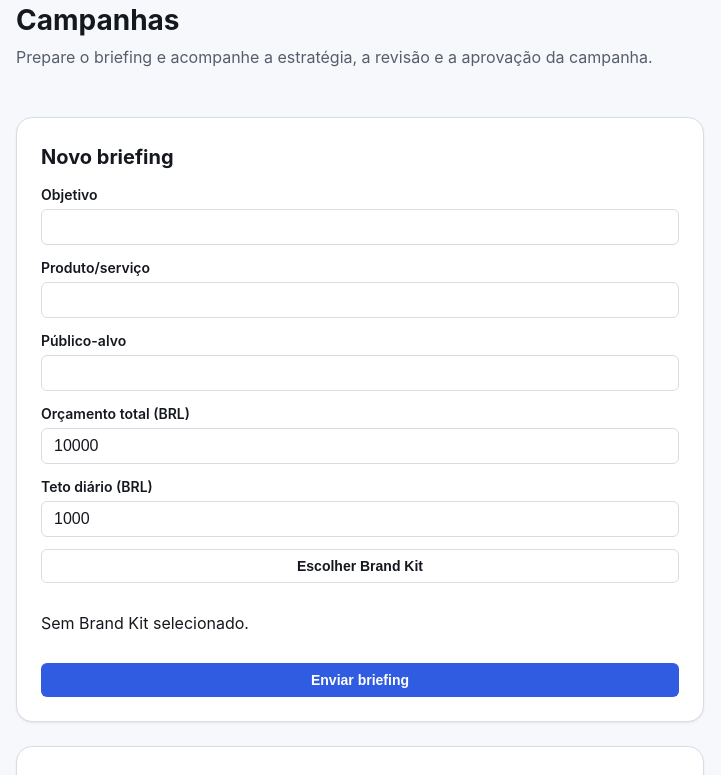
CampaignsPage › uncertain submission keeps body and nonce until confirmed
Step 1. Type "Estável" into the field labelled "Objetivo" → (360, 227), box left=41, top=209, right=679, bottom=245
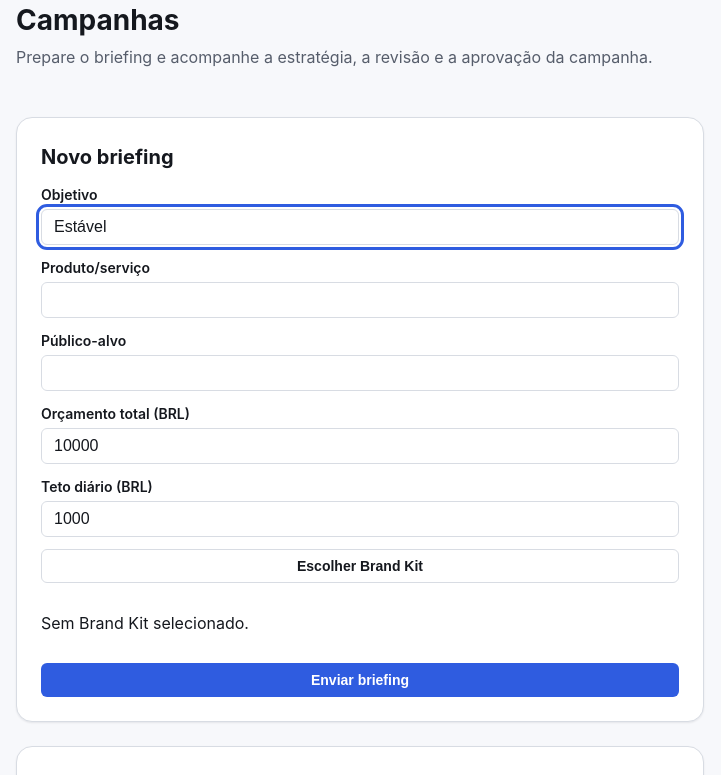
Step 2. Click the button "Enviar briefing" → click(360, 680), box left=41, top=663, right=679, bottom=697
(page scrolled)
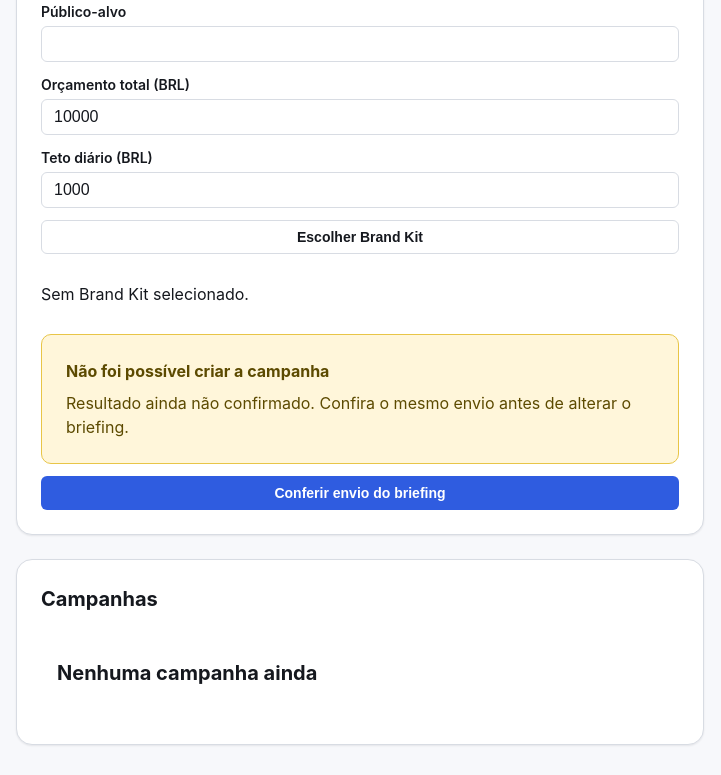
Expected: the button "Conferir envio do briefing" is shown
Step 3. Click the button "Conferir envio do briefing" → click(360, 493), box left=41, top=476, right=679, bottom=510
(page scrolled)
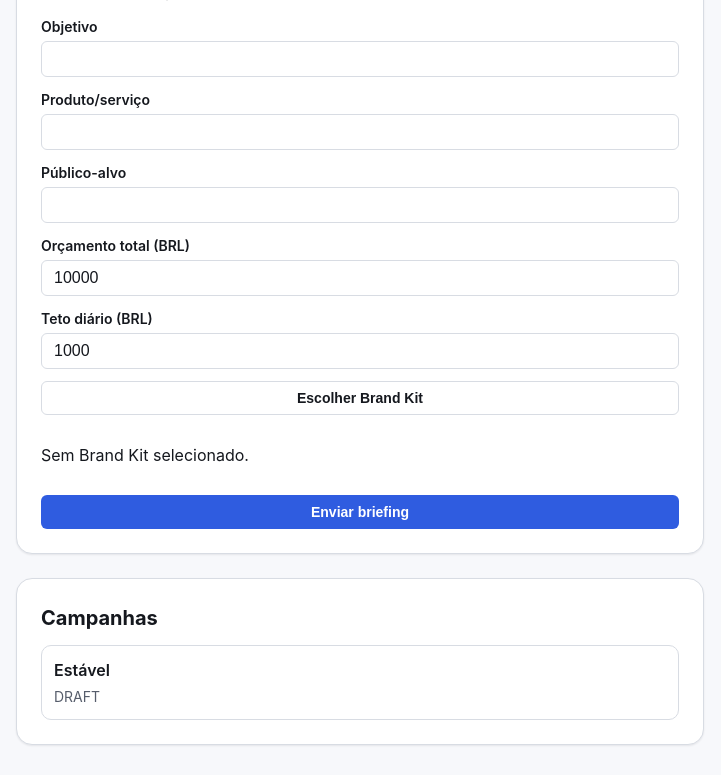
Expected: the text "Estável" is shown, left=54, top=660, right=110, bottom=680
